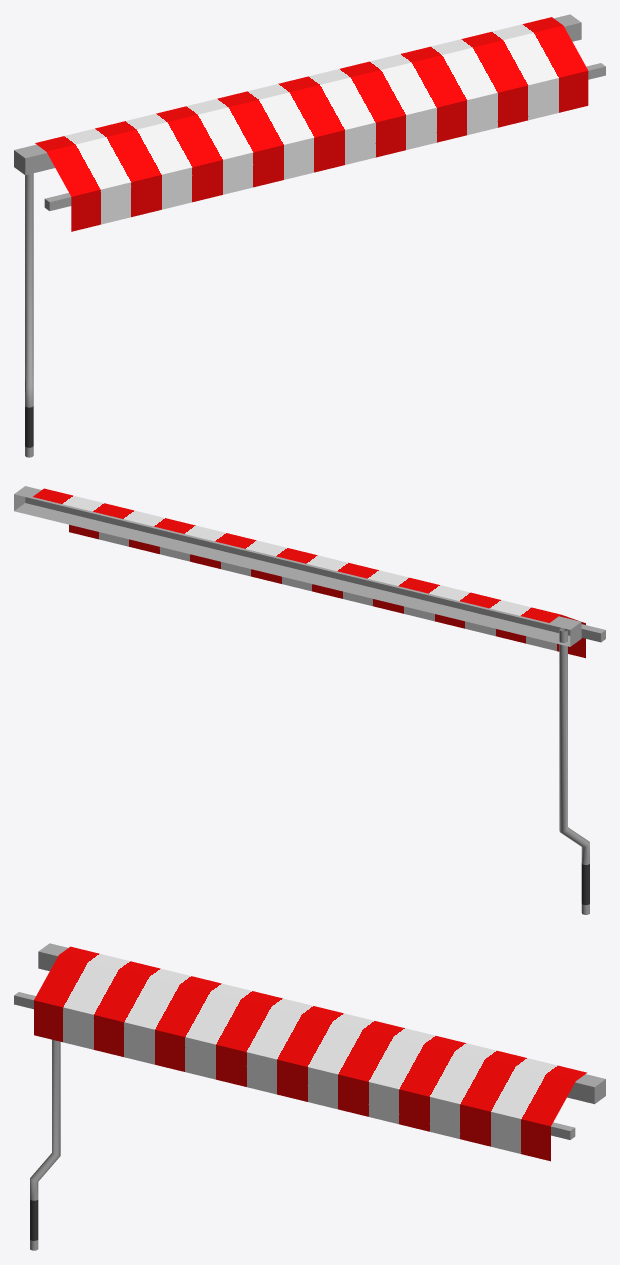
The model's file is interior_H_004.fbx.
3 views of the same model, one above another, from view 1: azimuth 30°, elevation 25°; view 2: azimuth 150°, elevation 25°; view 3: azimuth 330°, elevation 25° (orthographic).
Visible parts, largest first — view 1: interior_H_004; view 2: interior_H_004; view 3: interior_H_004.
Boxes of the visible parts, bbox=[...] form: interior_H_004: bbox=[14, 14, 605, 457]; interior_H_004: bbox=[14, 486, 605, 914]; interior_H_004: bbox=[14, 943, 605, 1250].
Size of the model in its own units: 265 by 134 by 29.99.
Materials: 3 (1 with a texture image).
